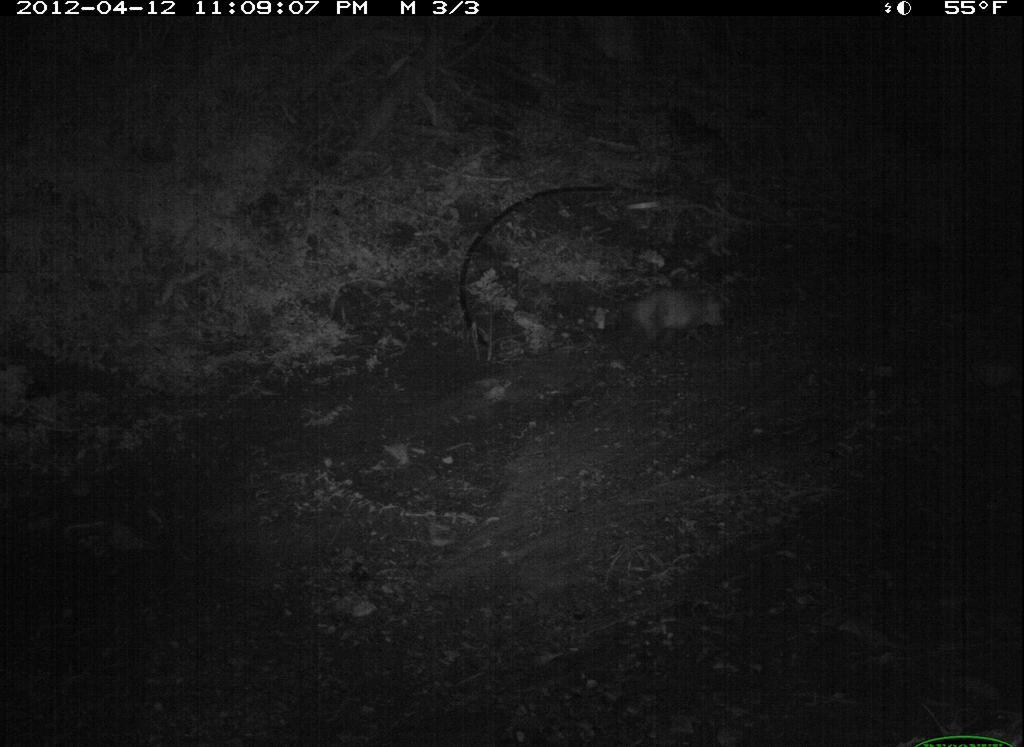opossum: (582, 282, 742, 345)
